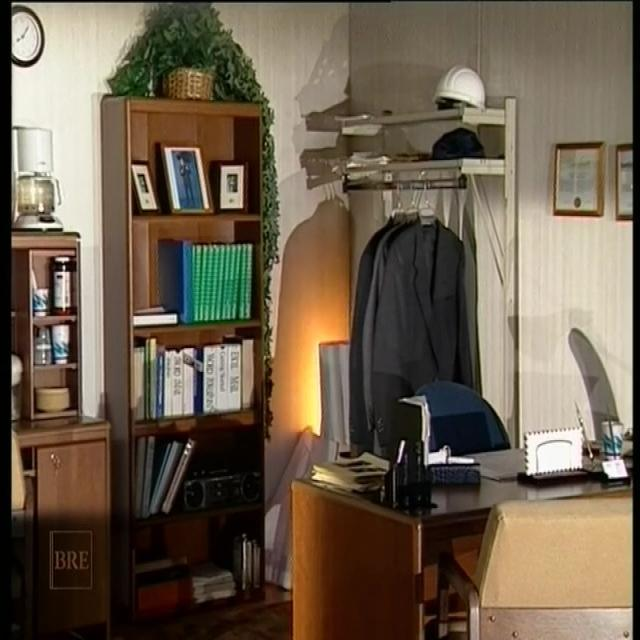Fire: (291, 298, 368, 445)
